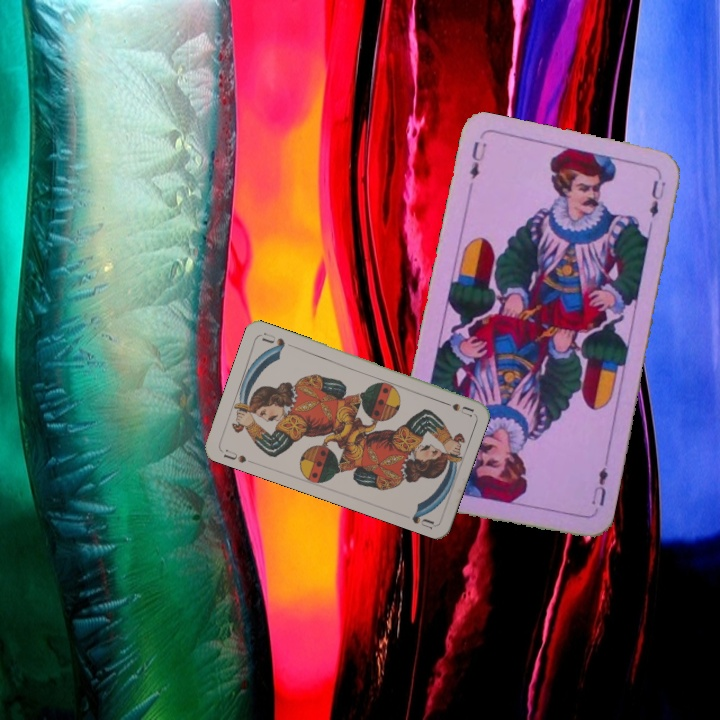EU: (465, 137, 490, 182), (587, 463, 611, 509)
SU: (435, 396, 476, 419), (219, 445, 249, 466)
